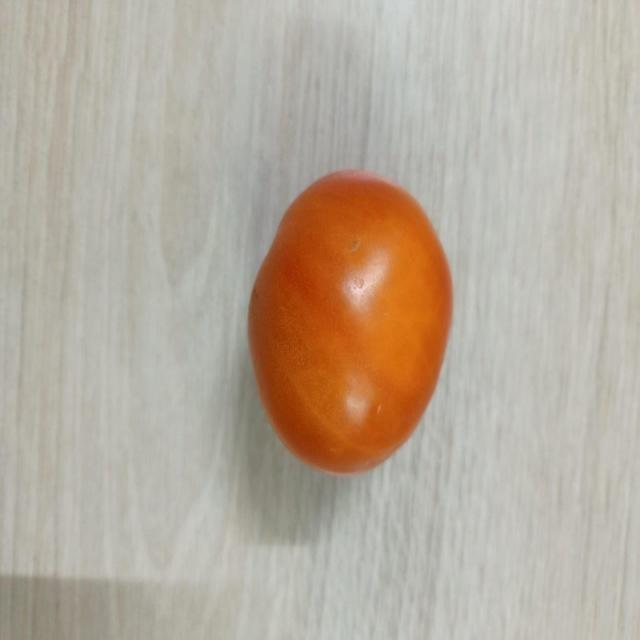Tomato: (246, 166, 455, 478)
